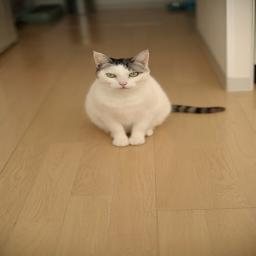catnose: (119, 80, 128, 86)
